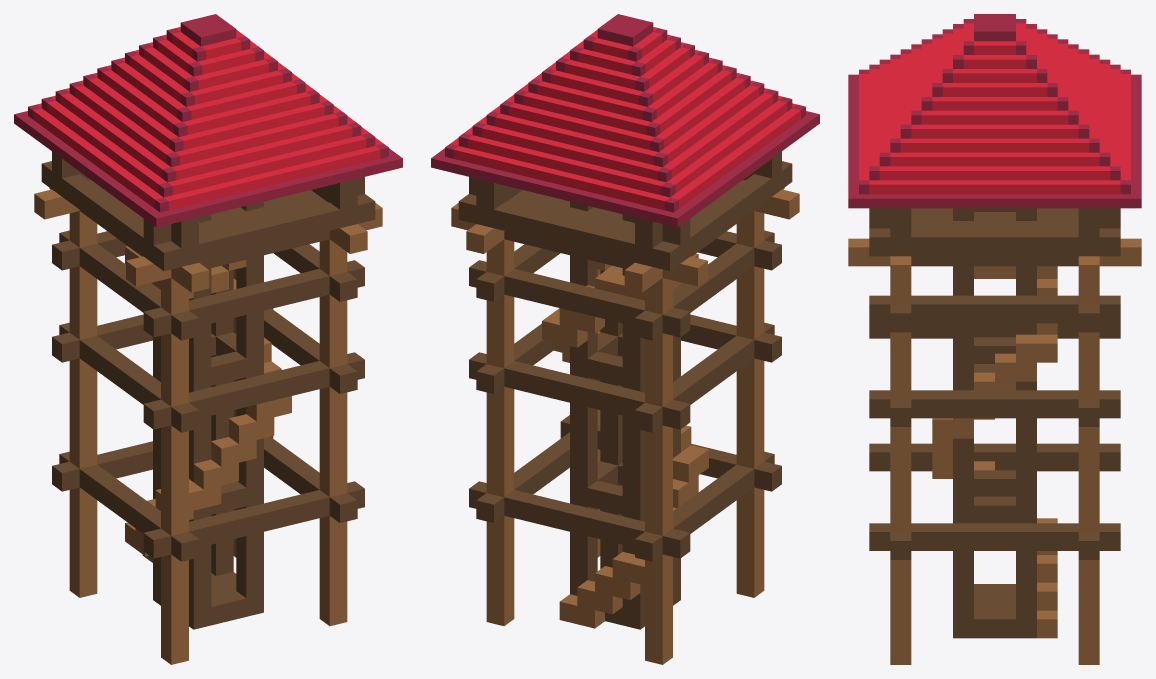
The model's file is WoodenTower1_RedRoof.obj.
The picture shows the model from 3 angles, left to right: view 1: azimuth 30°, elevation 25°; view 2: azimuth 150°, elevation 25°; view 3: azimuth 270°, elevation 25°; orthographic projection. The views are drawn at different scales.
Visible parts, largest first — view 1: WoodenTower1; view 2: WoodenTower1; view 3: WoodenTower1.
Part boxes in pixels (x1,y1,x2,y2): WoodenTower1: [14, 14, 402, 664]; WoodenTower1: [431, 14, 819, 664]; WoodenTower1: [848, 14, 1141, 664].
Bounding box in the file's own units: 2.8 × 6.3 × 2.8.
Materials: 1 (1 with a texture image).
